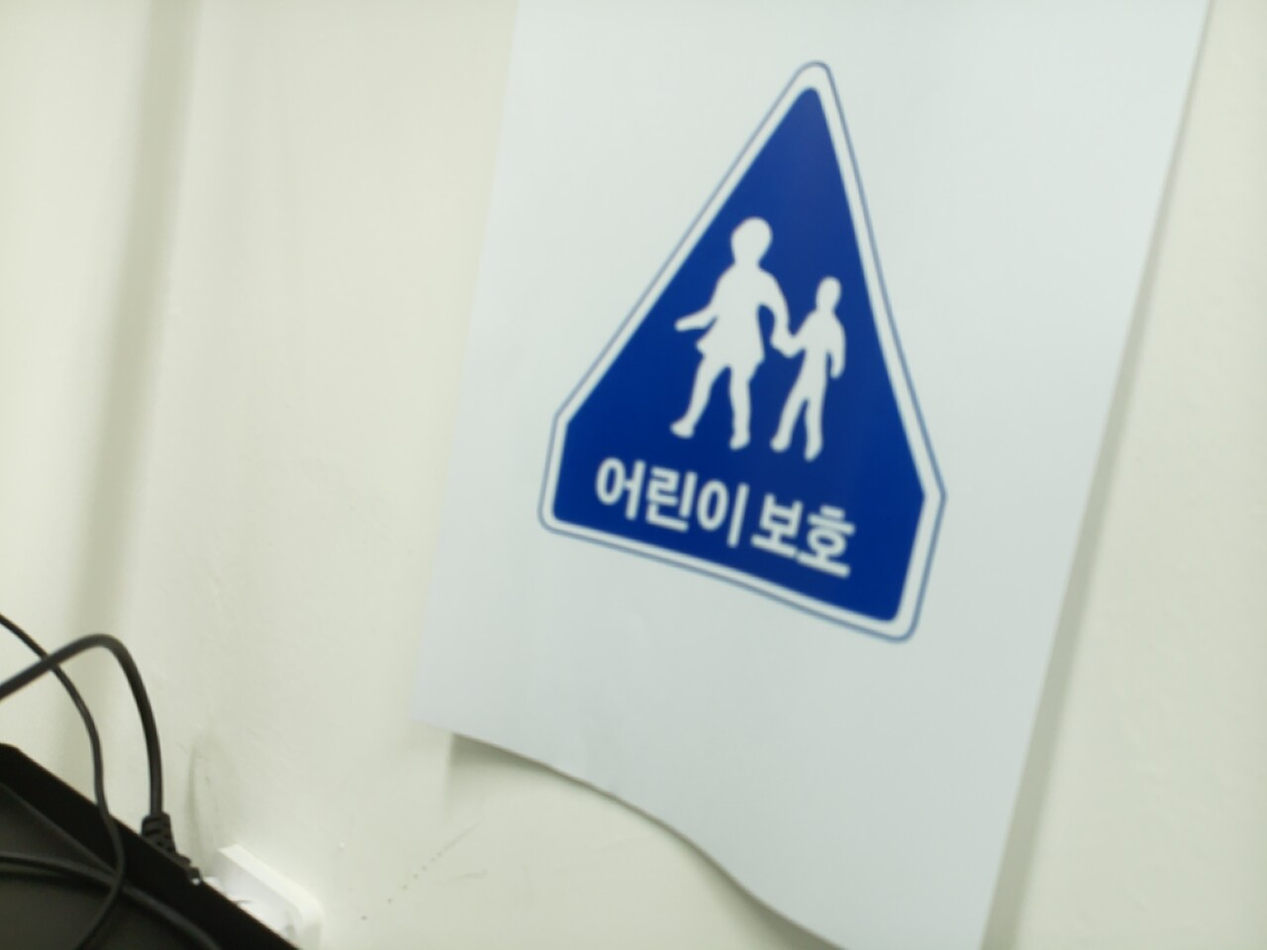school_zone: (541, 74, 935, 635)
